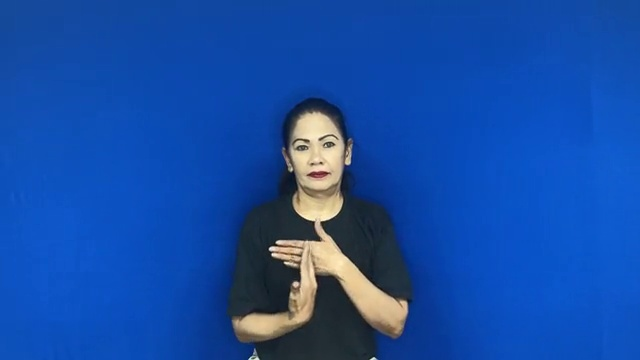bread: (259, 211, 358, 328)
